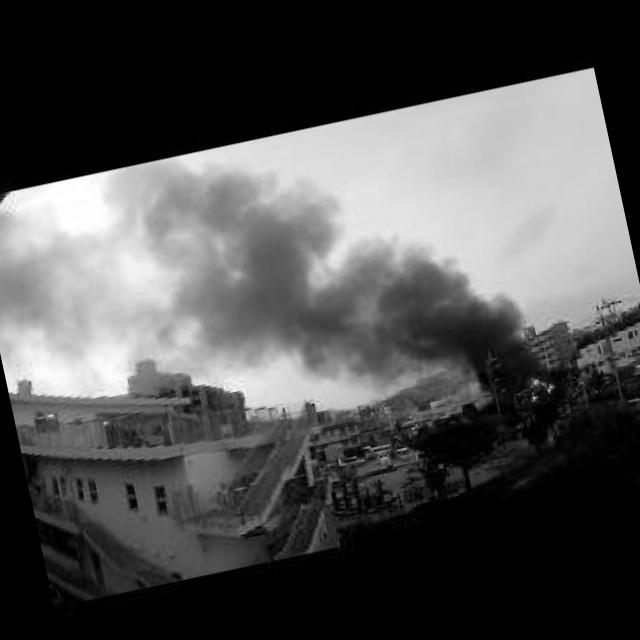fire: (528, 373, 560, 401)
smoke: (0, 130, 348, 401), (218, 208, 462, 406), (424, 266, 551, 407)
